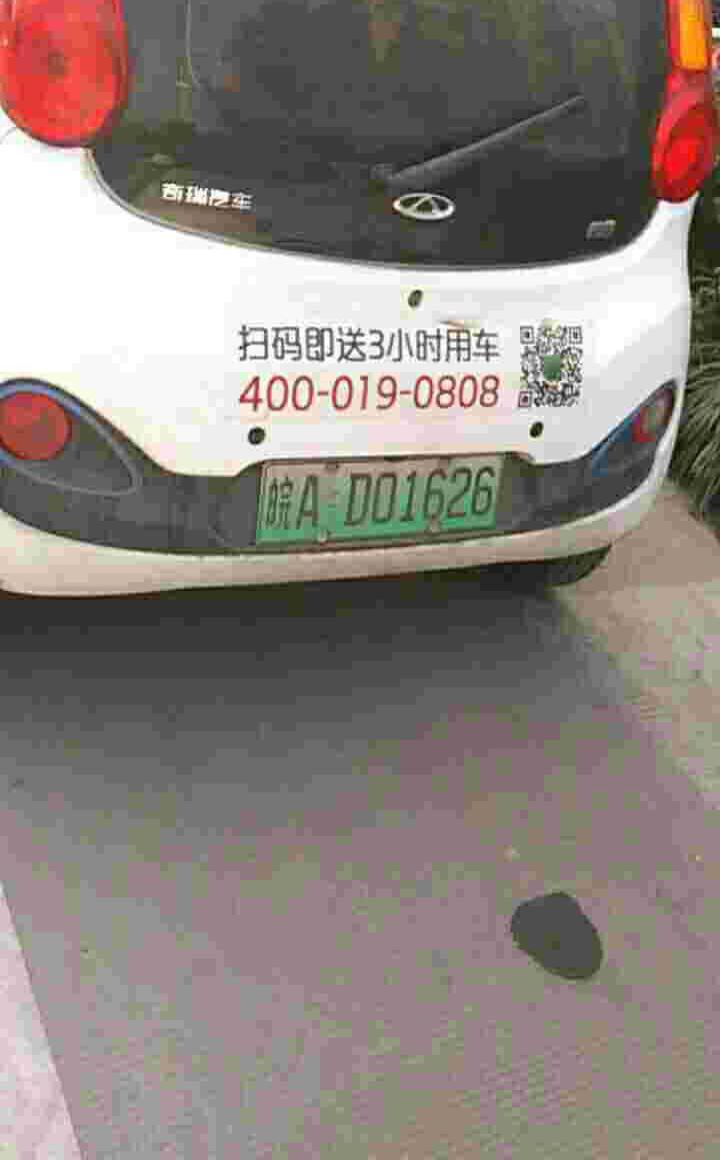car_green: (257, 464, 499, 535)
